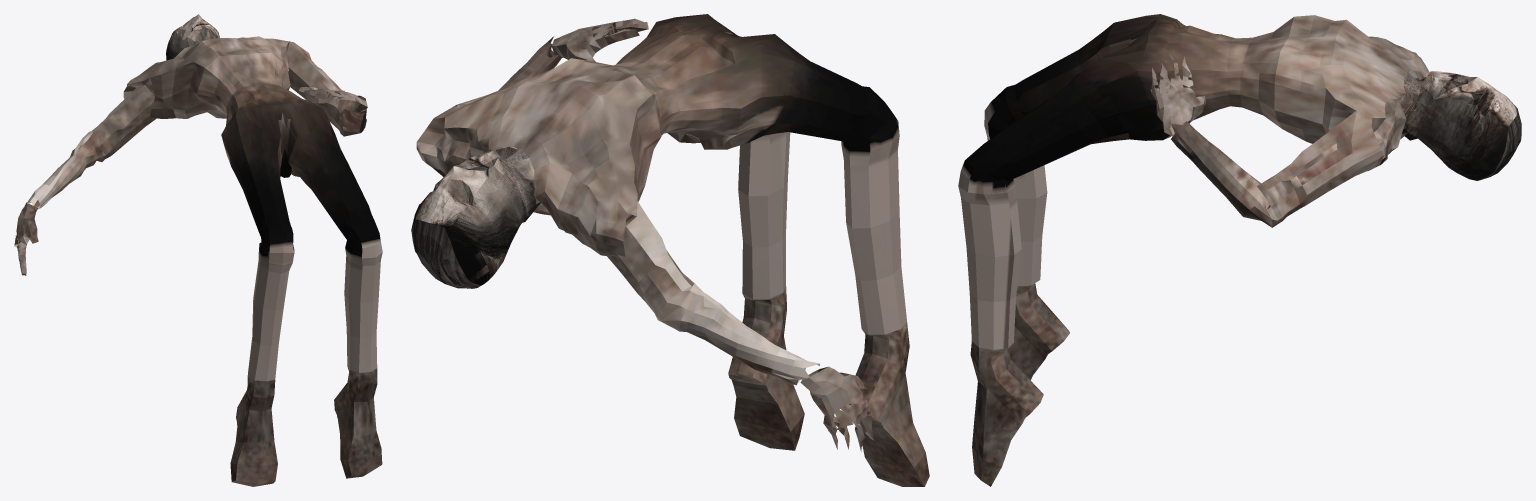
The model's file is corpse.obj.
3 views of the same model, side by side, from view 1: azimuth 30°, elevation 25°; view 2: azimuth 150°, elevation 25°; view 3: azimuth 270°, elevation 25° (orthographic). The views are drawn at different scales.
Parts seen in each view (by area): view 1: corpse:male_Lo_1 corpse:polySurface3 corpse:polySurface4 corpse:; view 2: corpse:male_Lo_1 corpse:polySurface3 corpse:polySurface4 corpse:; view 3: corpse:male_Lo_1 corpse:polySurface3 corpse:polySurface4 corpse:.
Boxes of the visible parts, box(x1,y1,x2,y2) form: corpse:male_Lo_1 corpse:polySurface3 corpse:polySurface4 corpse:: box(14, 14, 382, 486); corpse:male_Lo_1 corpse:polySurface3 corpse:polySurface4 corpse:: box(411, 14, 929, 486); corpse:male_Lo_1 corpse:polySurface3 corpse:polySurface4 corpse:: box(958, 14, 1521, 486).
Size of the model in its own units: 0.9911 by 1.03 by 1.17.
1 material, 1 textured.
